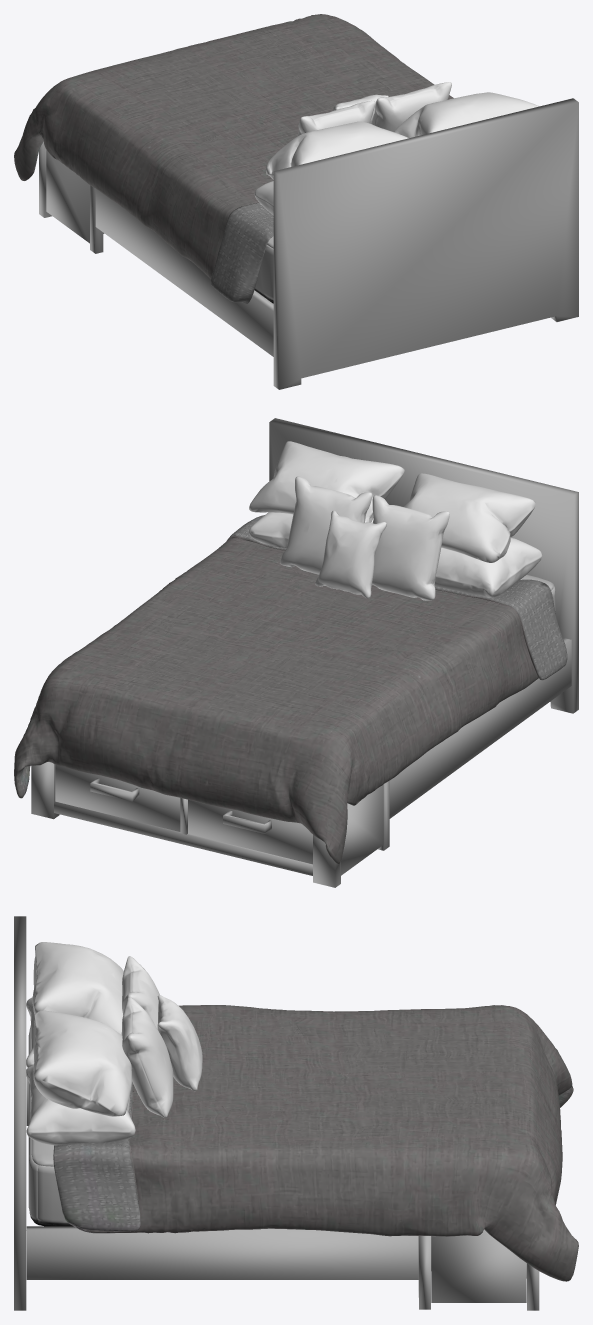
File: bed_kingsize.glb
The picture shows the model from 3 angles, top to bottom: view 1: azimuth 30°, elevation 25°; view 2: azimuth 150°, elevation 25°; view 3: azimuth 270°, elevation 25°; orthographic projection. The views are drawn at different scales.
Visible parts, largest first — view 1: Mattress; view 2: Mattress; view 3: Mattress.
Boxes of the visible parts, box(x1,y1,x2,y2) form: Mattress: box(14, 14, 578, 389); Mattress: box(14, 418, 578, 887); Mattress: box(14, 916, 578, 1310).
Size of the model in its own units: 1.71 by 1.07 by 2.31.
5 materials, 3 textured.
